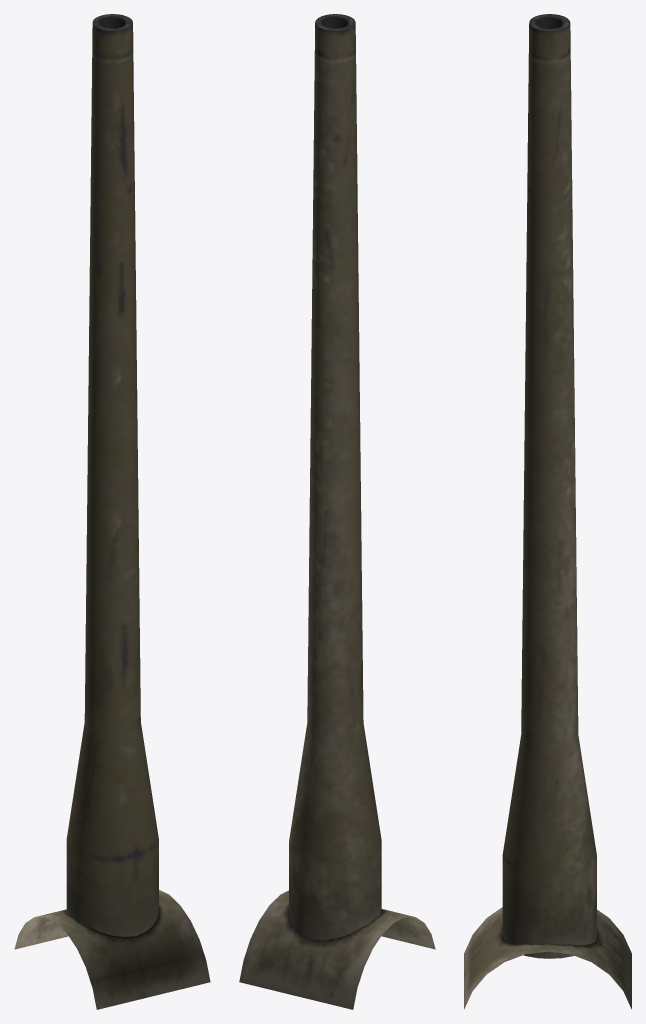
File: Gun_01.glb
3 views of the same model, side by side, from view 1: azimuth 30°, elevation 25°; view 2: azimuth 150°, elevation 25°; view 3: azimuth 270°, elevation 25° (orthographic).
Visible parts, largest first — view 1: set_0_group_0; view 2: set_0_group_0; view 3: set_0_group_0.
Part boxes in pixels (left/top/right/bottom): set_0_group_0: left=14, top=14, right=210, bottom=1009; set_0_group_0: left=239, top=14, right=435, bottom=1009; set_0_group_0: left=464, top=14, right=631, bottom=1009.
Size of the model in its own units: 0.3745 by 2.96 by 0.4698.
1 material, 1 textured.
